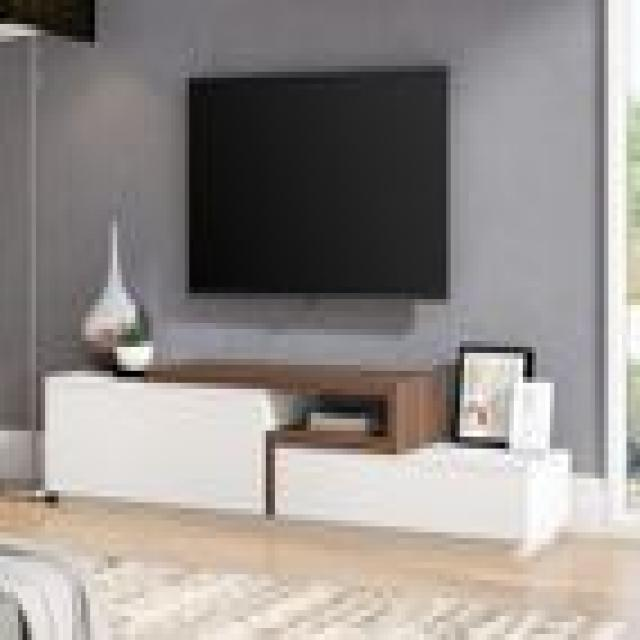others: (158, 66, 473, 311)
